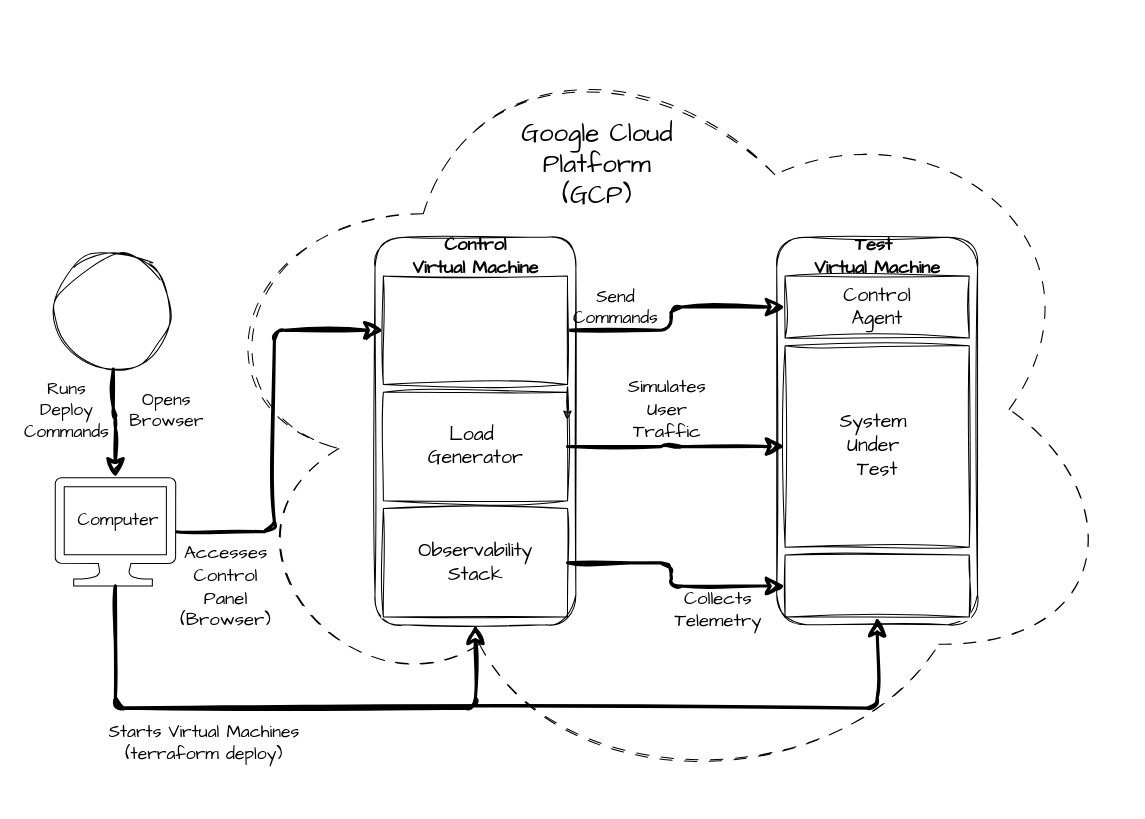
The diagram is 1145 pixels wide and 819 high, and some of its shapes have lost their labels. Here are the shapes that lost their labels. From the top down, the box of each, then its label:
(54, 252, 171, 369): User
(382, 275, 568, 384): Control Plane
(784, 554, 969, 617): Observability Agents
